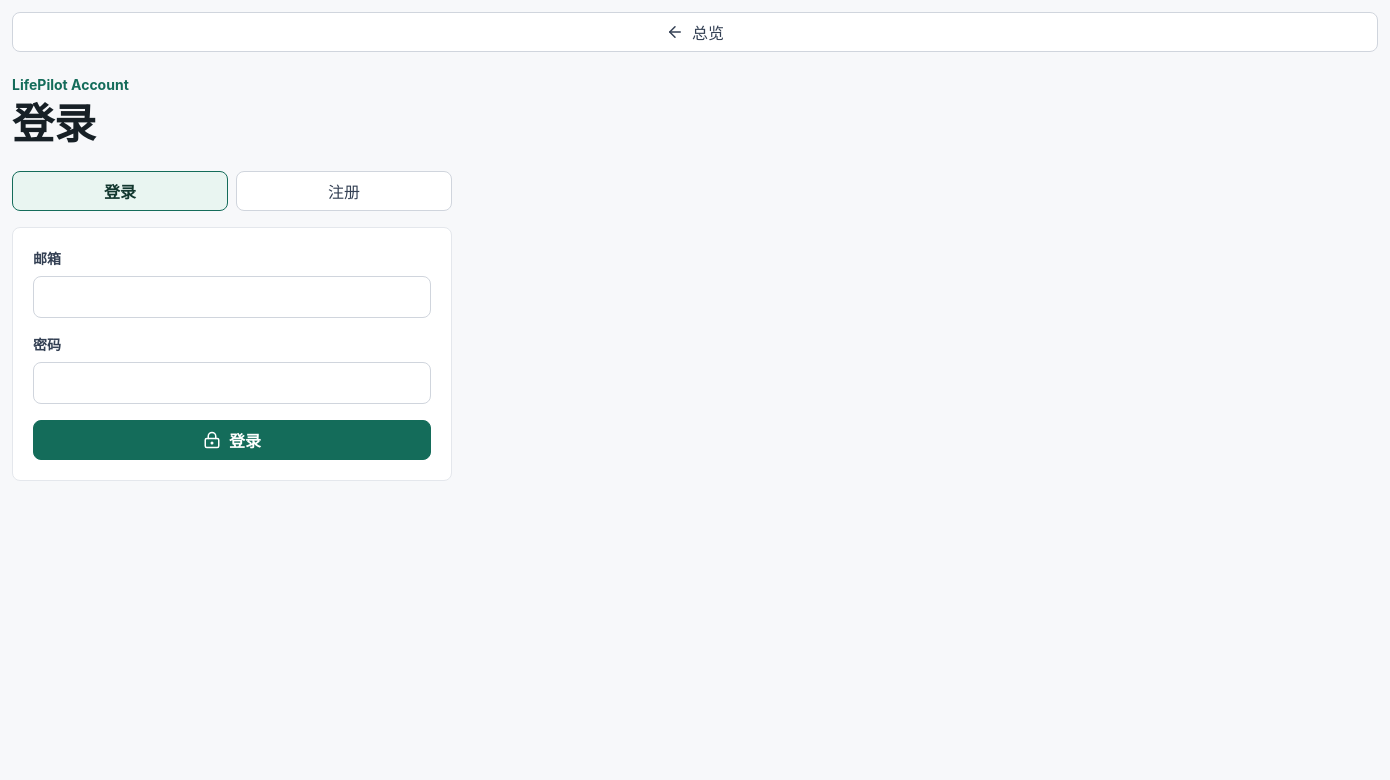
AuthView › switches to register mode when clicking register tab
Click the tab "注册" at (344, 191), box [236,171,452,211]
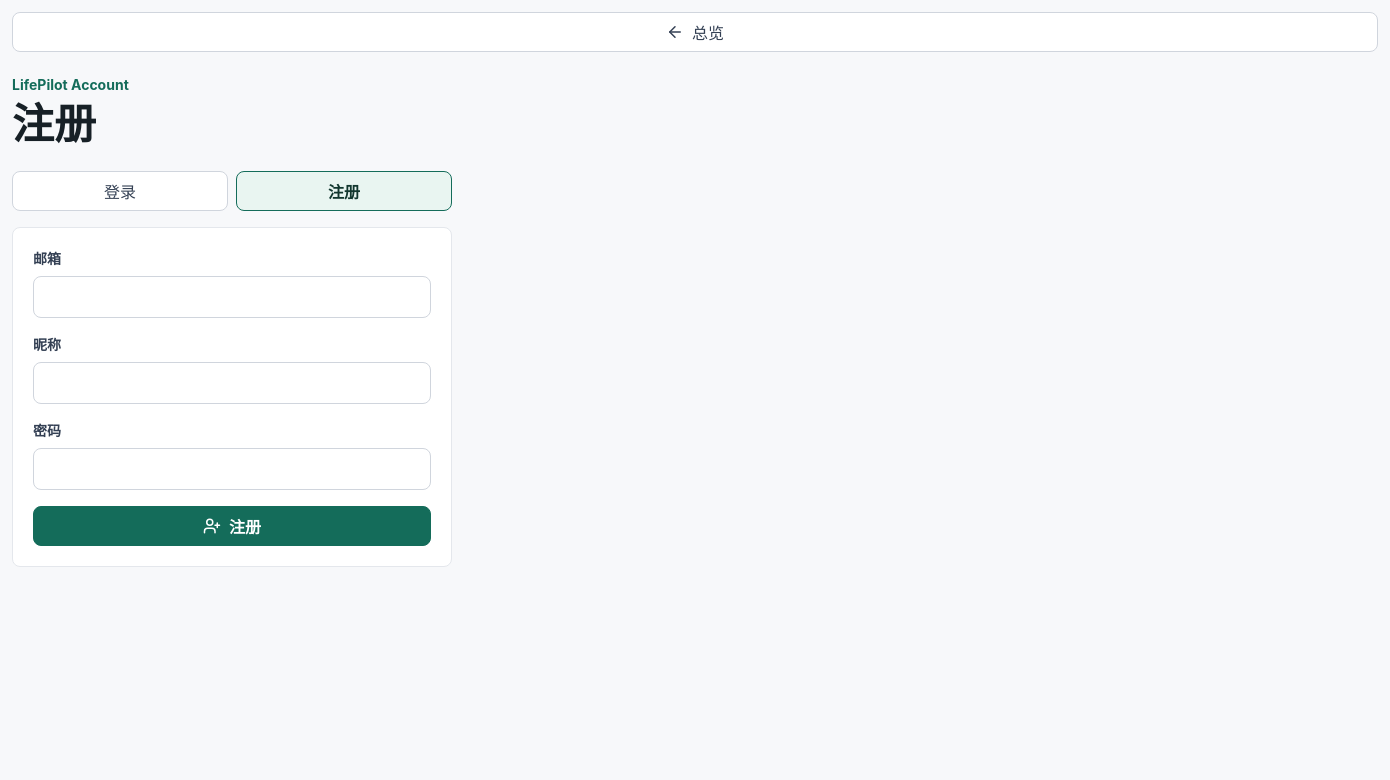
Expected: the field labelled "昵称" is shown, [33,362,431,404]
Now the heading "注册" is shown, box [12,98,96,149]
